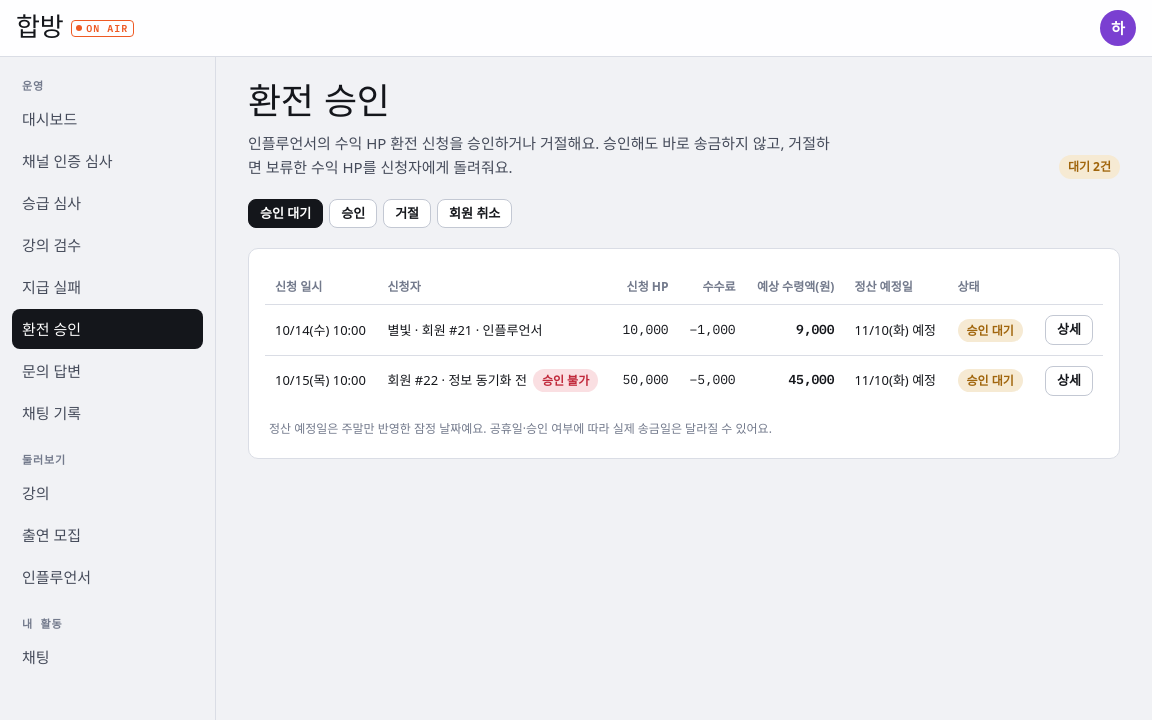
Test: 관리자 환전 승인·거절 › 승인하면 확인을 거쳐 승인으로 바뀌고 목록·대시보드 건수를 무효화한다
Click the link "상세" in the row of "10/14(수) 10:00".
click(1069, 330)  # box [1045,315,1093,345]
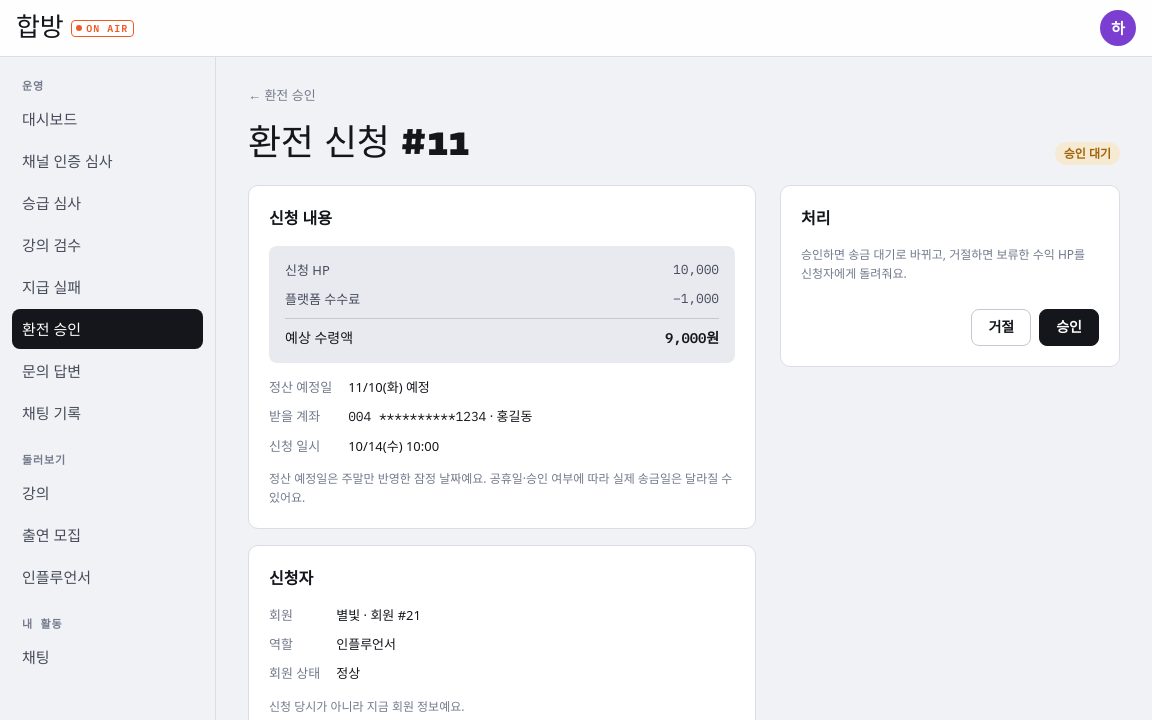
Click the button "승인".
click(1069, 328)  # box [1039,309,1099,346]
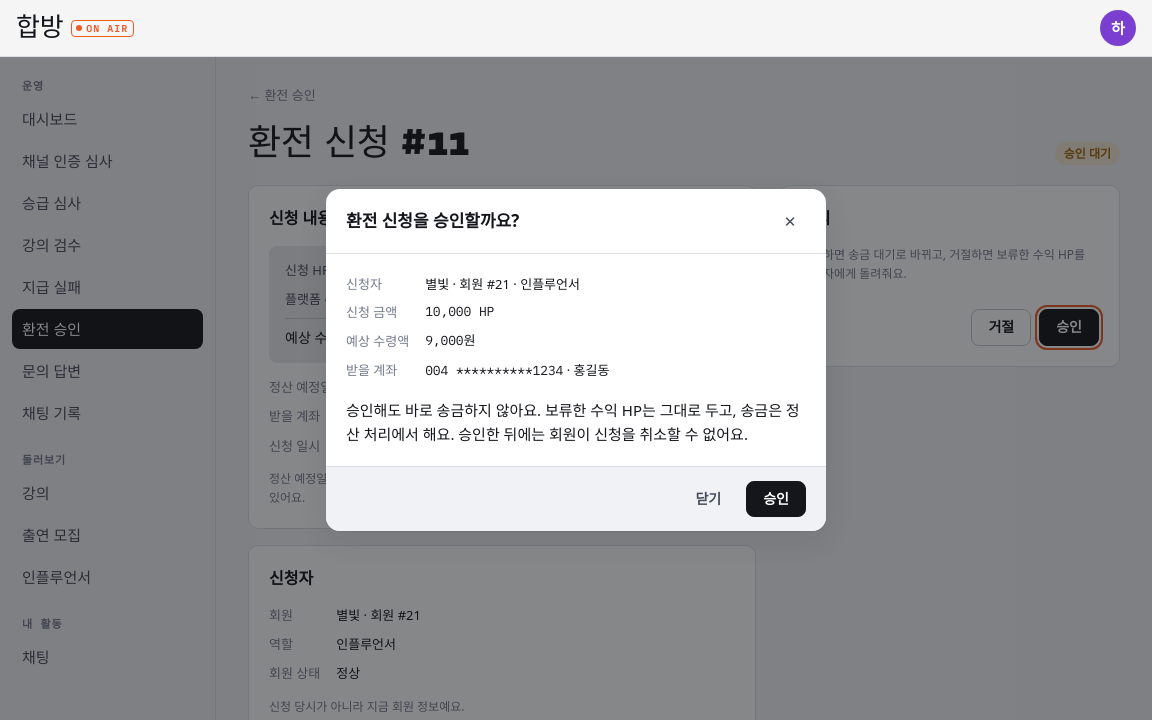
Now the dialog "환전 신청을 승인할까요?" shows "별빛 · 회원 #21 · 인플루언서", box [425,274,580,292]
Now the dialog "환전 신청을 승인할까요?" shows "10,000 HP", box [326,188,826,532]
Now the dialog "환전 신청을 승인할까요?" shows "9,000원", box [326,188,826,532]
Click the button "승인".
click(776, 499)  # box [746,481,806,518]
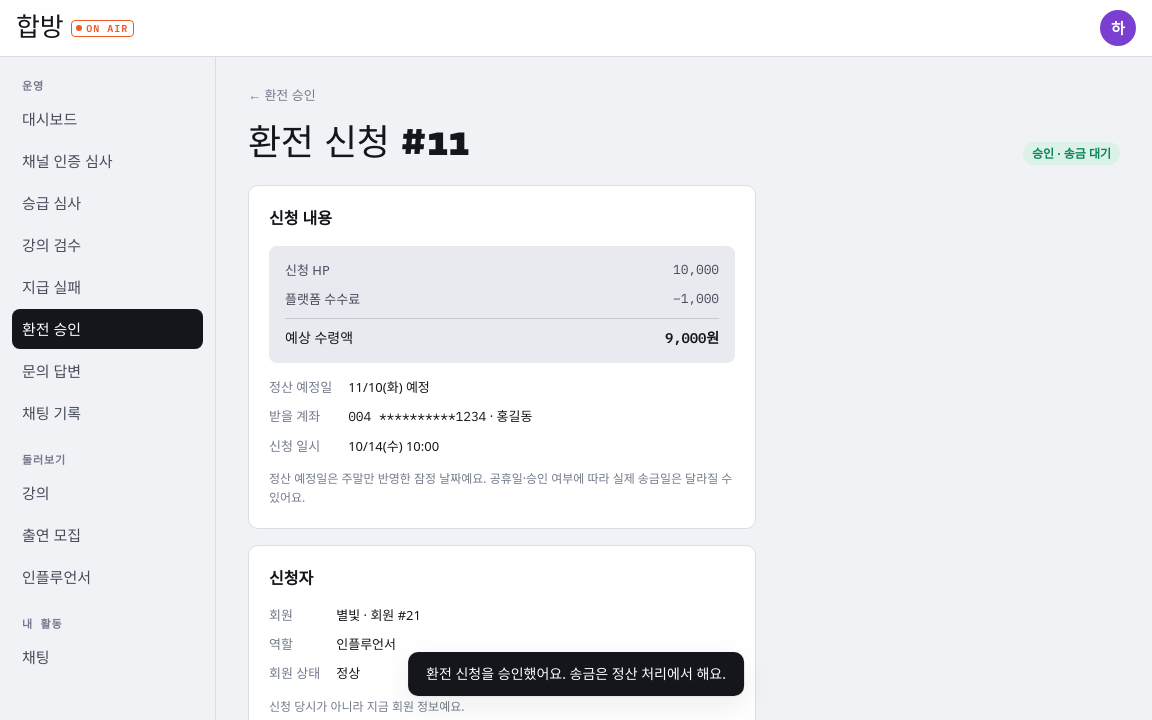
Now the text "환전 신청을 승인했어요. 송금은 정산 처리에서 해요." is shown, box [408,652,744,696]
Now the dialog is gone
Now the text "승인 · 송금 대기" is shown, box [1023,142,1120,165]
Click the link "← 환전 승인".
click(282, 95)  # box [248,85,316,106]
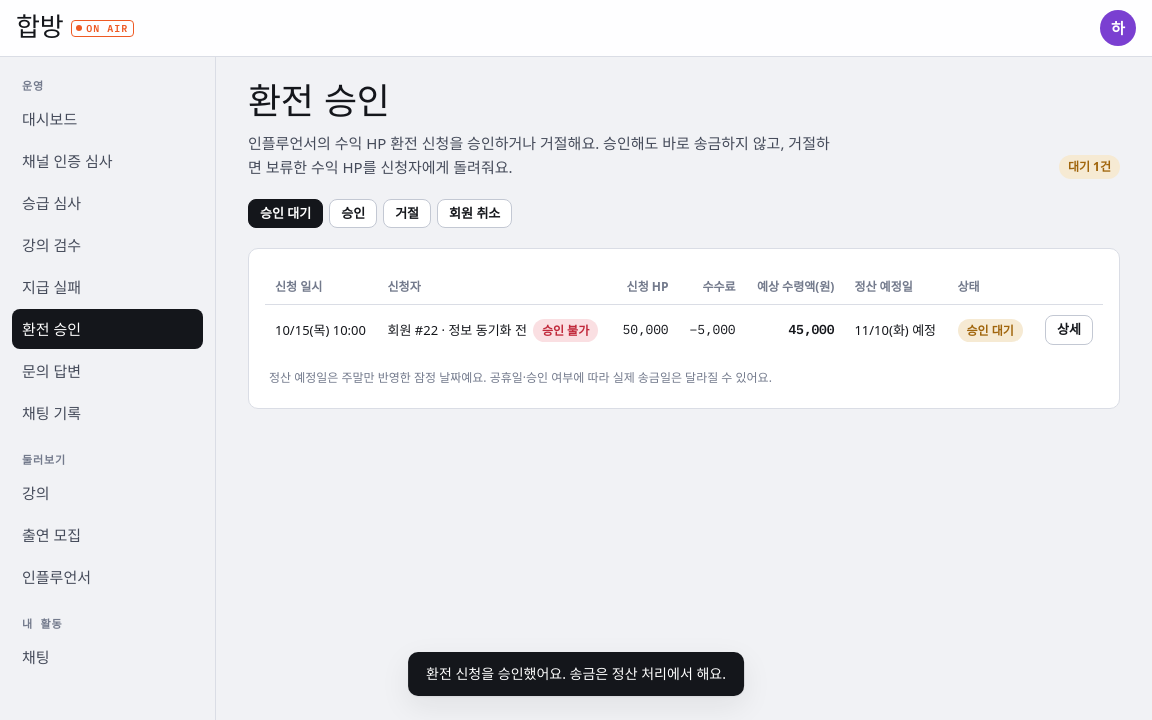
Now the number of rows is 2, box [265,269,1103,305]; [265,305,1103,355]
